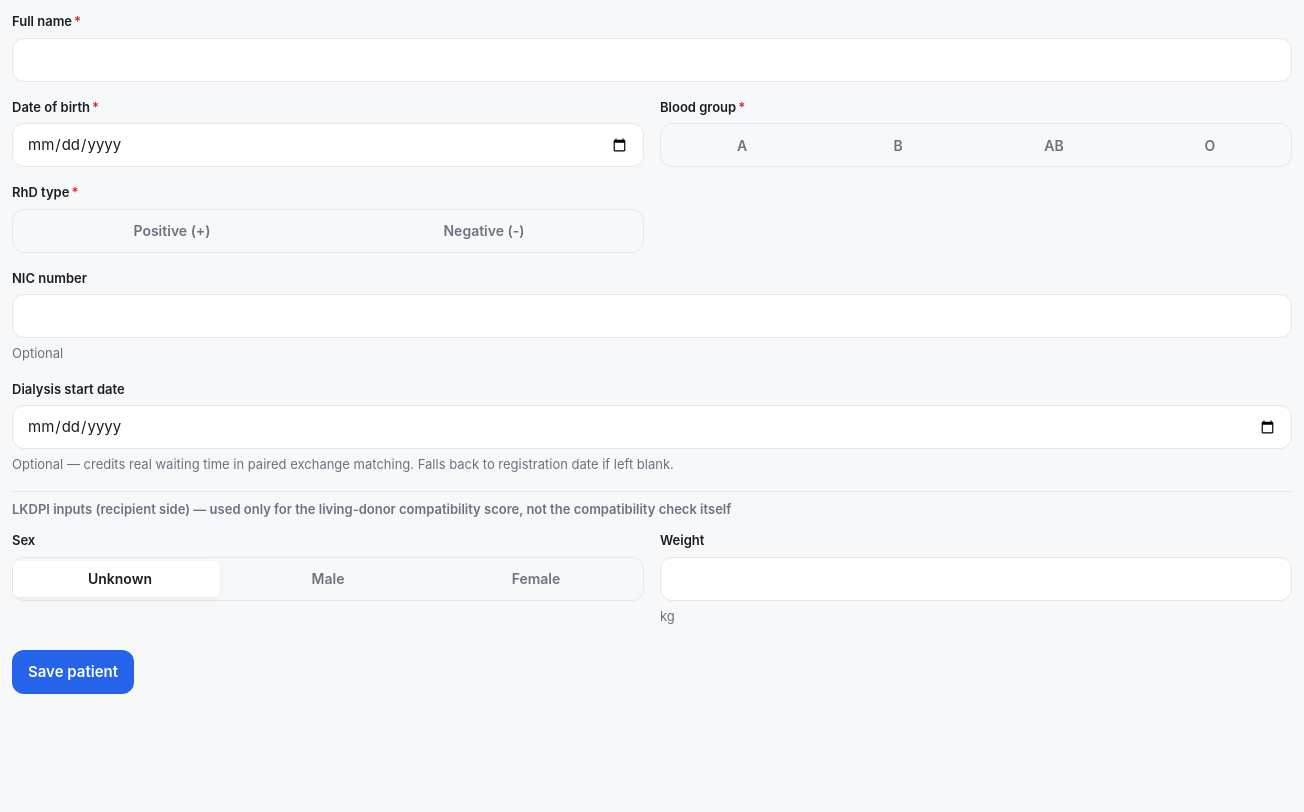
Test case: PatientForm › create mode requires blood group and RhD type
Type "New Patient" into the field labelled "Full name" at (652, 60), box [12,38,1292,82]
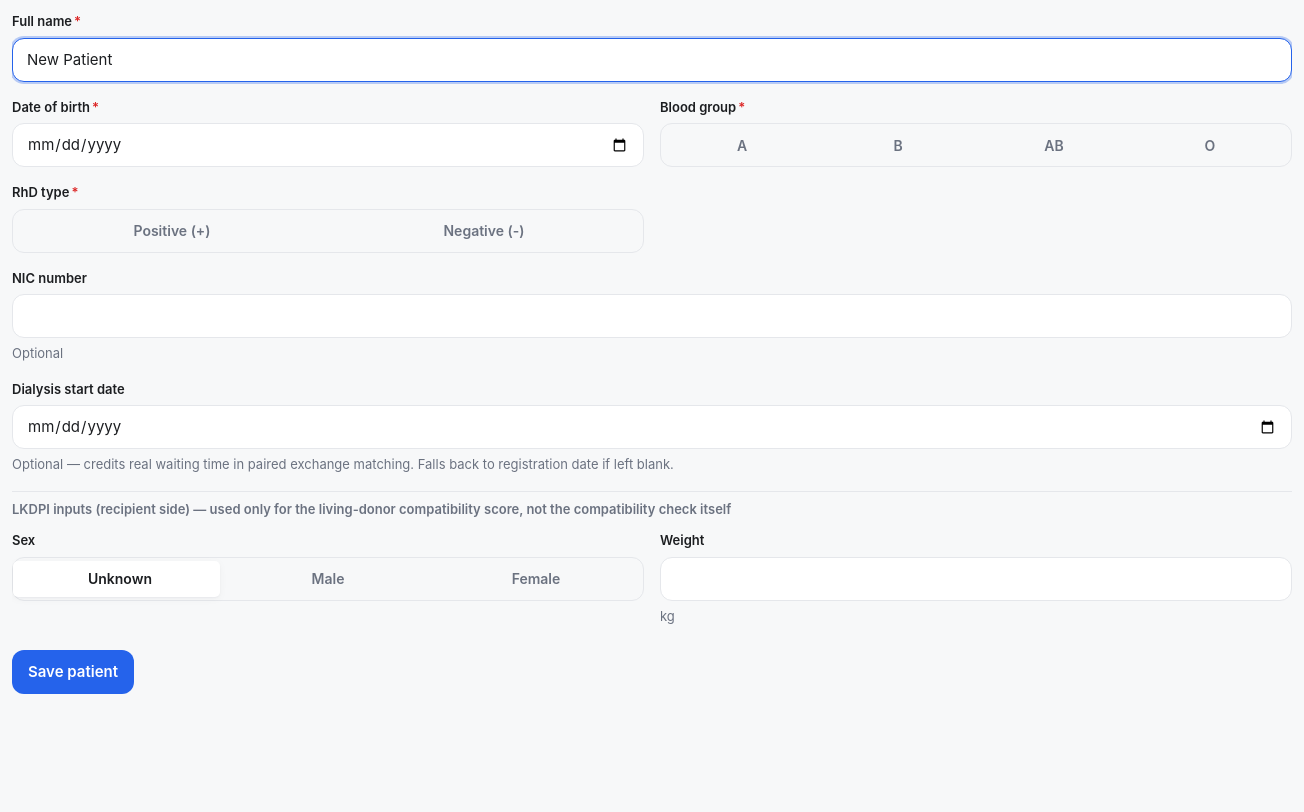
Type "1990-01-01" into the date field labelled "Date of birth" at (328, 145), box [12,123,644,167]
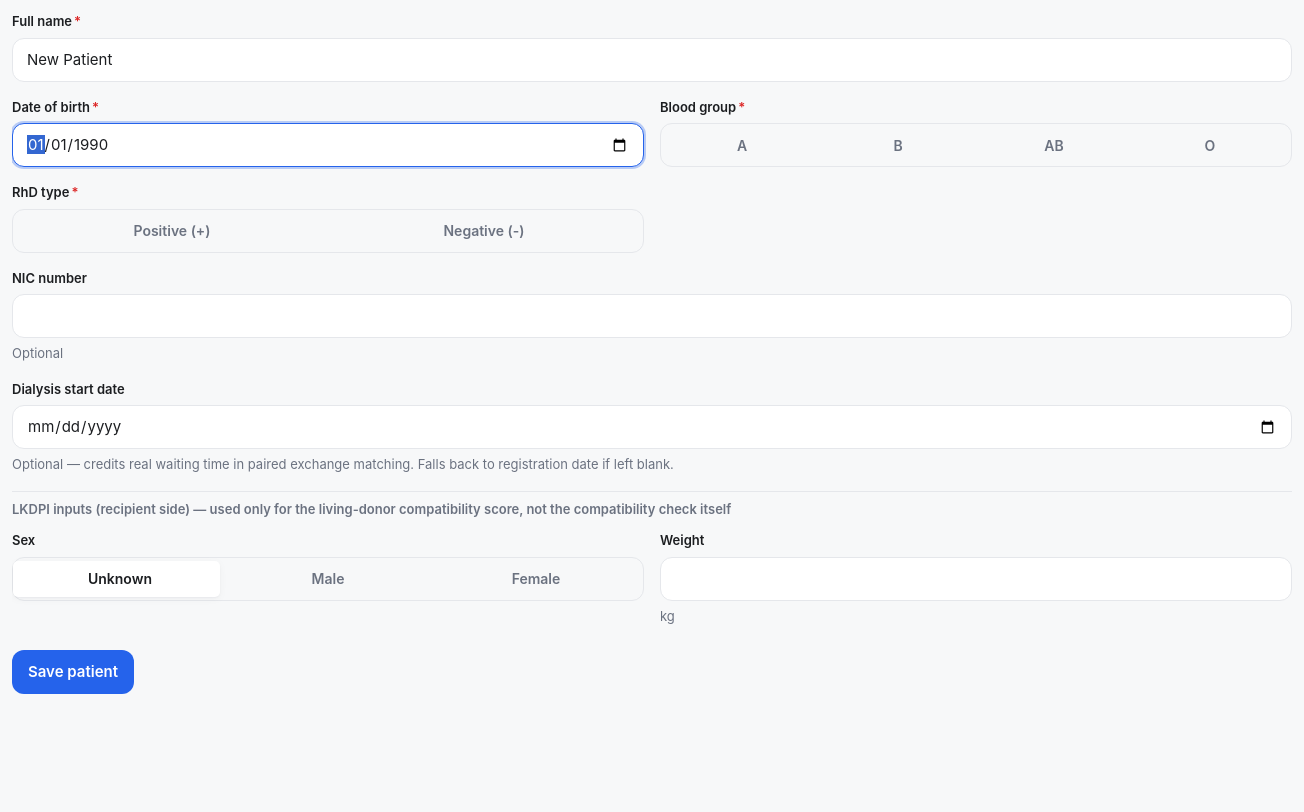
Click the button "Save patient" at (73, 672), box [12,650,134,694]
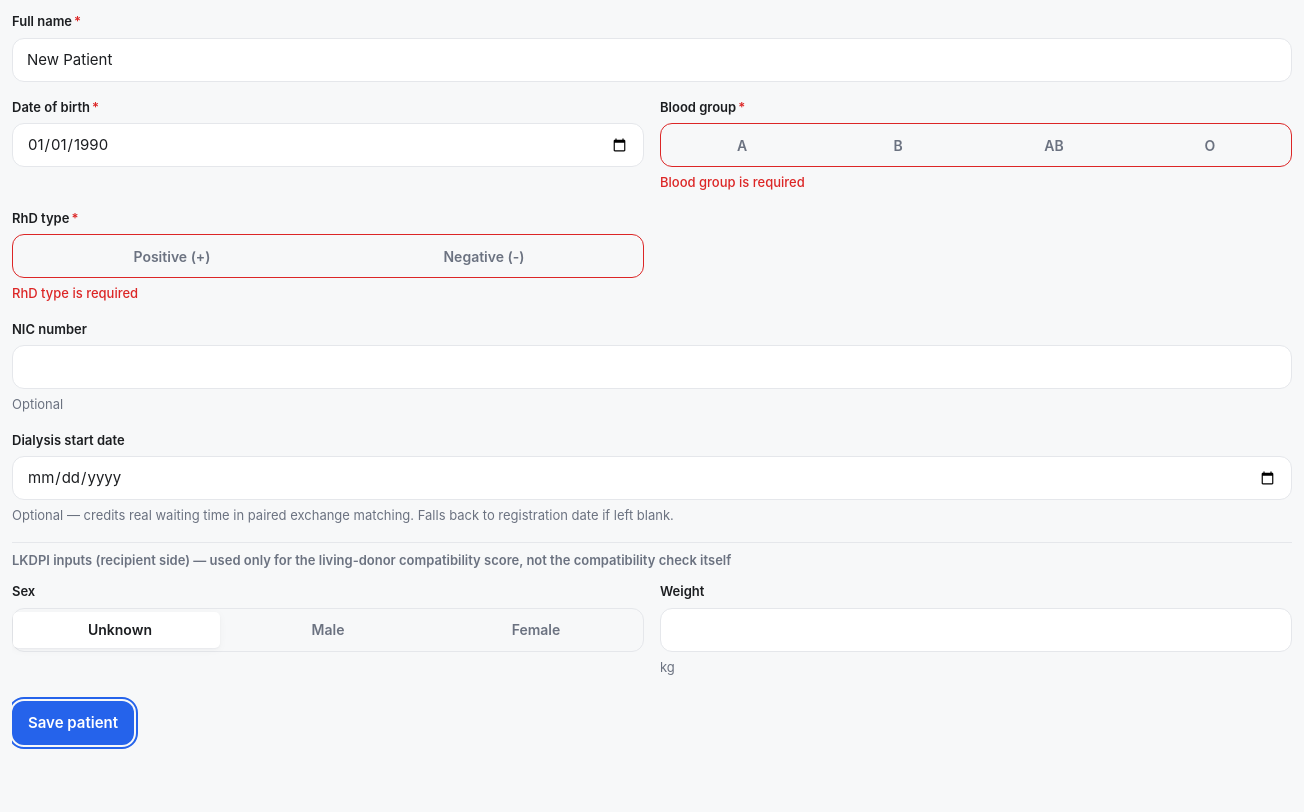
Expected: the text "Blood group is required" is shown, [660,174,805,190]
Expected: the text "RhD type is required" is shown, [12,285,138,301]
